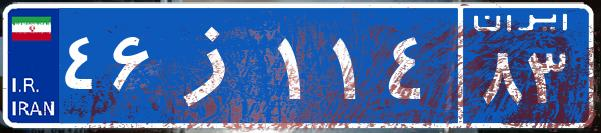1: (273, 28, 330, 110), (330, 28, 385, 110)
3: (525, 38, 570, 115)
4: (385, 28, 445, 110), (57, 26, 110, 107)
6: (110, 28, 158, 105)
8: (475, 38, 525, 113)
ز: (158, 15, 273, 115)
